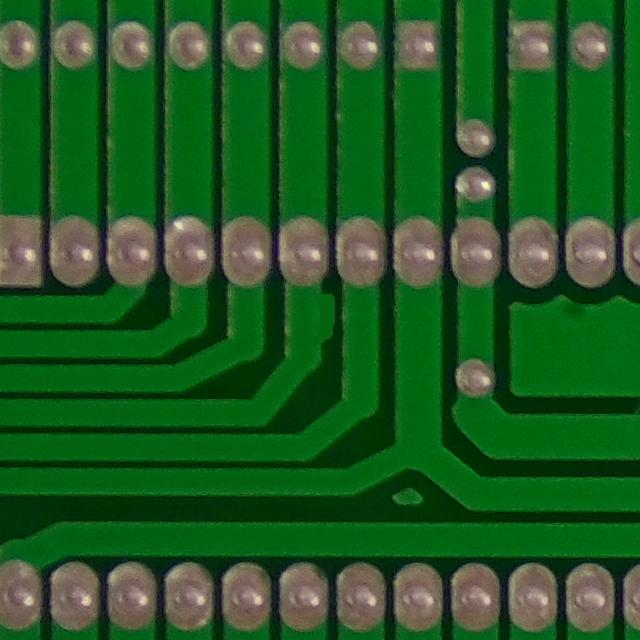spur: (295, 284, 346, 357)
